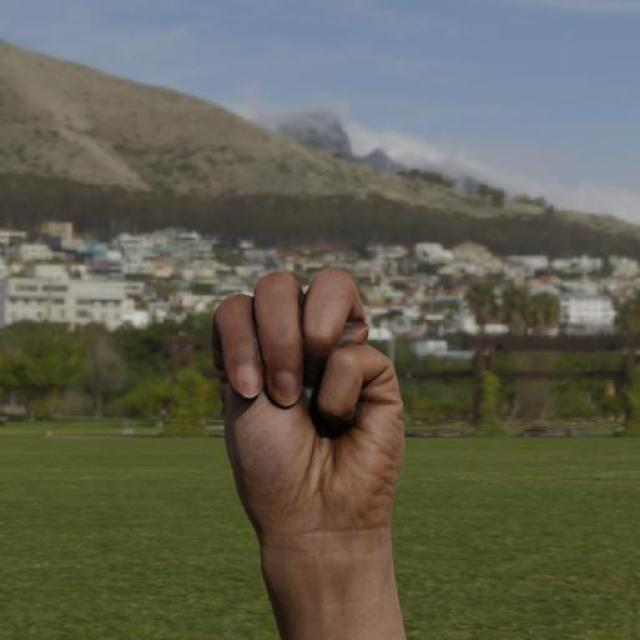M: (175, 227, 450, 556)
